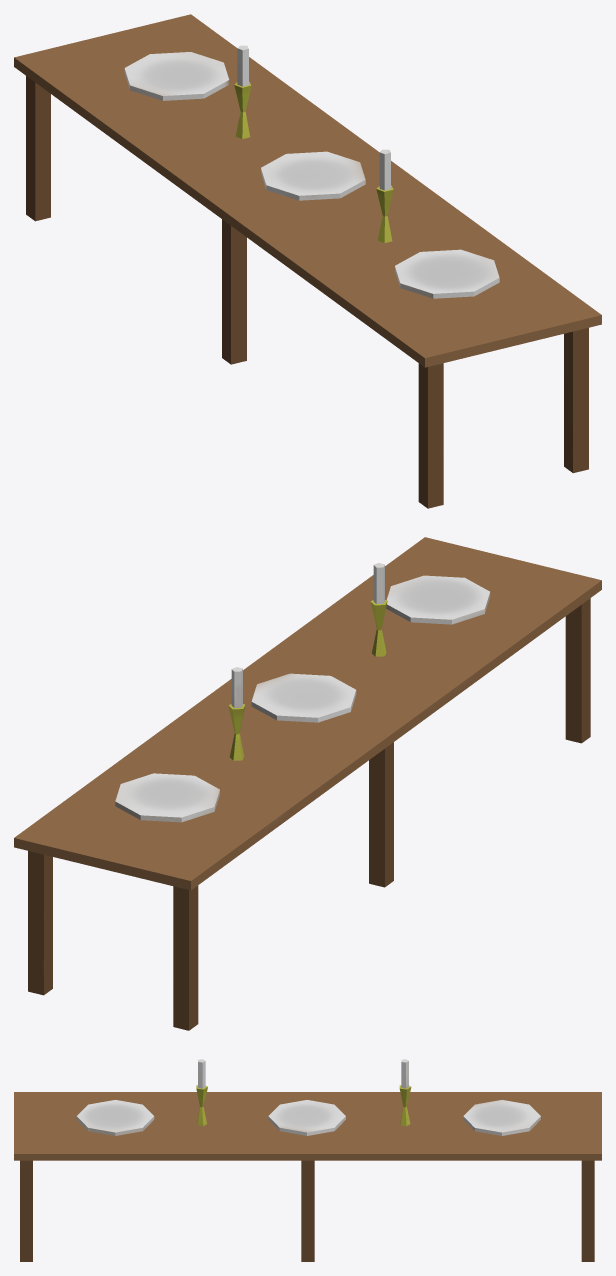
File: Dinner table.fbx
3 views of the same model, one above another, from view 1: azimuth 30°, elevation 25°; view 2: azimuth 150°, elevation 25°; view 3: azimuth 270°, elevation 25° (orthographic). The views are drawn at different scales.
Parts seen in each view (by area): view 1: Cube.003; view 2: Cube.003; view 3: Cube.003.
Part boxes in pixels (box(x1,y1,x2,y2)): Cube.003: box(14, 14, 601, 508); Cube.003: box(14, 537, 601, 1030); Cube.003: box(14, 1059, 601, 1261).
Size of the model in its own units: 221 by 291 by 891.
